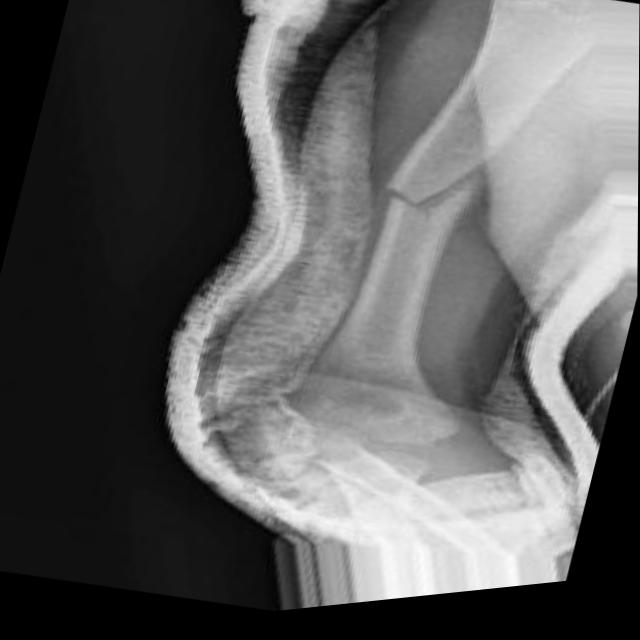fracture: (373, 135, 510, 262)
